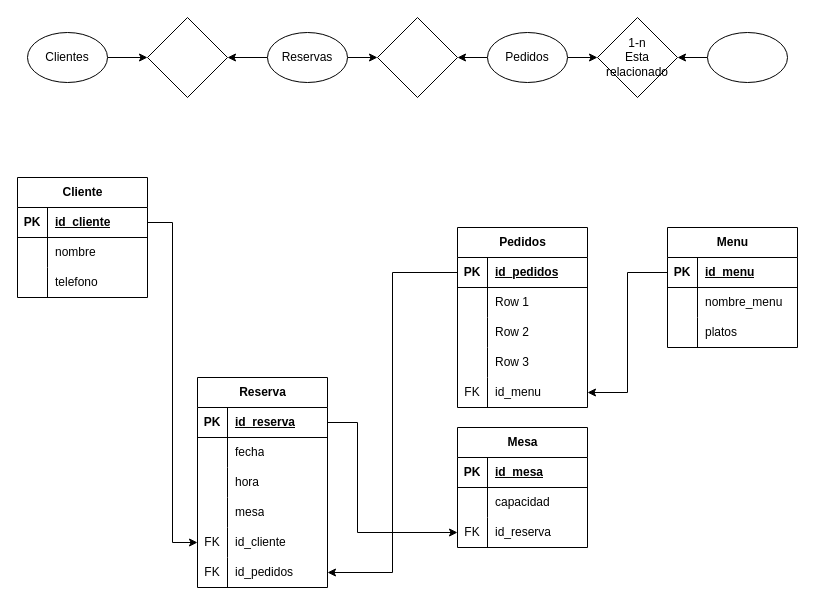
This 815x605 diagram has some shape labels left out. The box of each missing label's shape, as (x1, y1, x2, y2) in pixels:
1-n Estan asociadas: (376, 16, 458, 98)
1-n Hace: (146, 16, 228, 98)
Menus: (706, 32, 788, 82)
